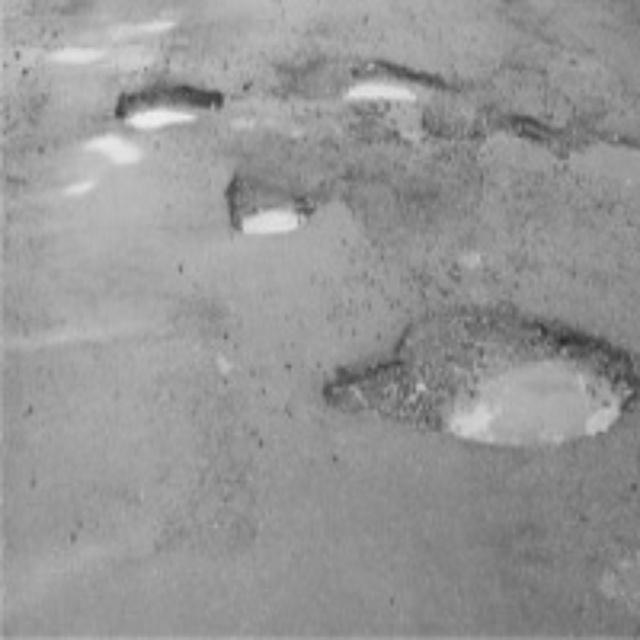Pothole: (410, 314, 614, 460), (213, 172, 304, 242), (334, 57, 446, 107), (112, 85, 209, 128), (480, 107, 550, 162)
